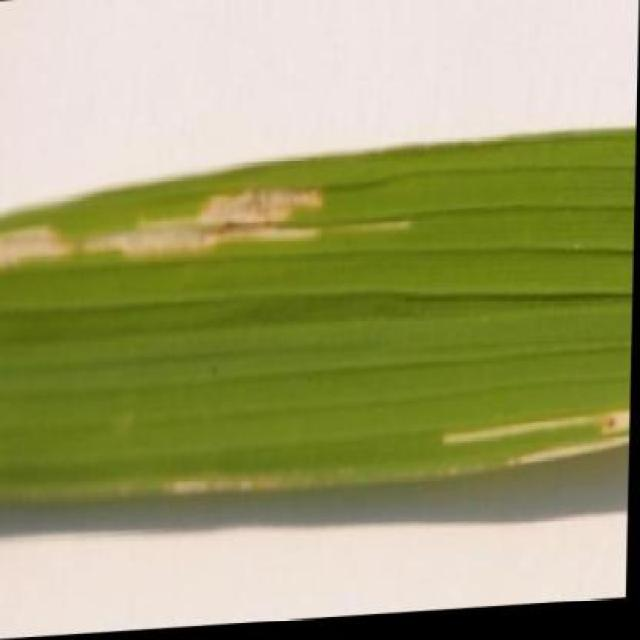Brown_Spot: (0, 133, 637, 513)
